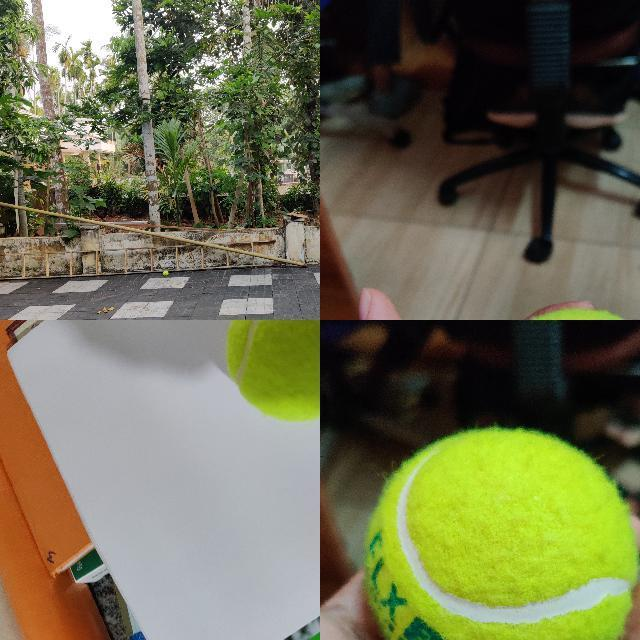tennis-ball: (365, 428, 638, 639), (225, 320, 319, 424), (162, 271, 168, 276)
